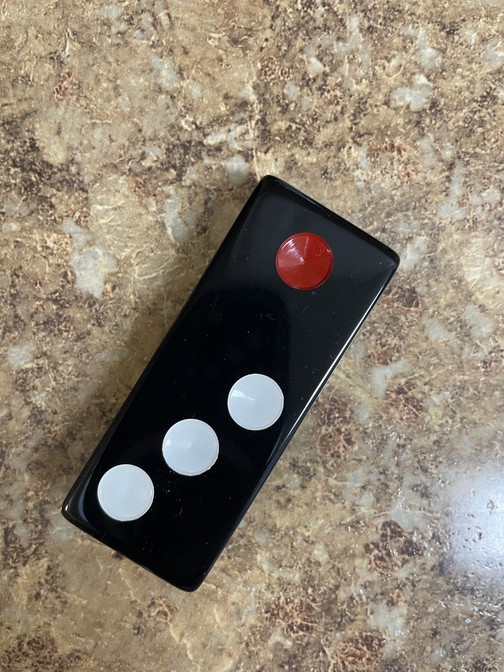goose: (62, 176, 402, 595)
